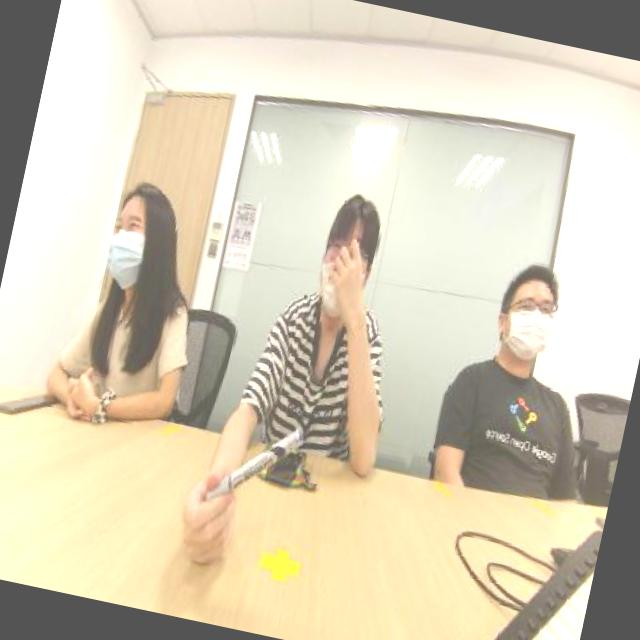Person: (230, 144, 437, 474), (420, 199, 620, 508), (78, 123, 242, 402)
